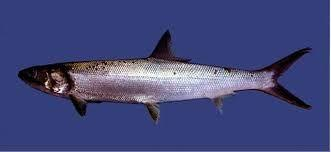Tenpounder: (17, 30, 314, 110)
